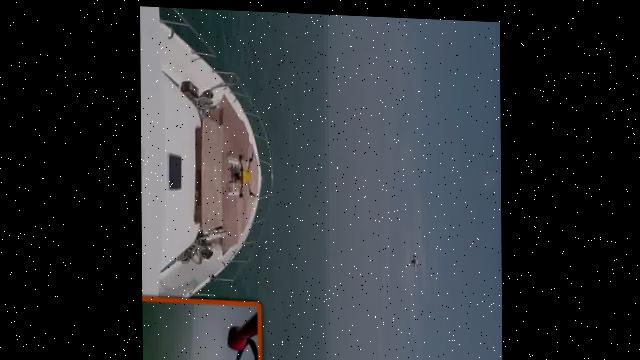drone: (228, 144, 270, 205), (408, 243, 431, 274)
